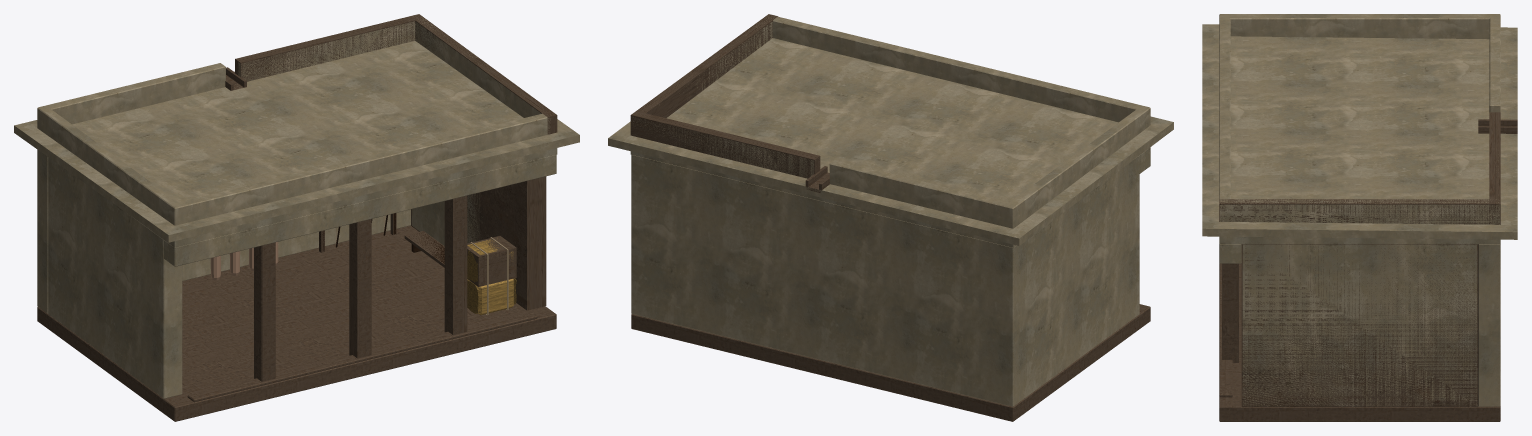
Rendered from d_archery_8x5.glb.
3 views of the same model, side by side, from view 1: azimuth 30°, elevation 25°; view 2: azimuth 150°, elevation 25°; view 3: azimuth 270°, elevation 25° (orthographic).
Parts seen in each view (by area): view 1: rear wall, foundation, side wall-colonly.001, rear parapet-colonly.001, side parapet-colonly.001, front pier-colonly.002, straw bale-colonly.001, front pier-colonly.001, straw bale, bow string, bench-colonly.001, straw bale end (+1 smaller); view 2: rear wall, foundation, rear parapet-colonly.001, side parapet-colonly.001; view 3: rear wall, side wall-colonly.001, foundation, side parapet-colonly.001, rear parapet-colonly.001, front pier-colonly.002.
Part boxes in pixels (left/top/right/bottom): rear wall: left=14, top=16, right=579, bottom=398; foundation: left=37, top=67, right=556, bottom=421; side wall-colonly.001: left=411, top=176, right=546, bottom=310; rear parapet-colonly.001: left=235, top=14, right=422, bottom=81; side parapet-colonly.001: left=410, top=14, right=557, bottom=134; front pier-colonly.002: left=444, top=195, right=467, bottom=334; straw bale-colonly.001: left=467, top=236, right=516, bottom=286; front pier-colonly.001: left=349, top=219, right=371, bottom=358; straw bale: left=467, top=238, right=514, bottom=315; bow string: left=210, top=216, right=384, bottom=280; bench-colonly.001: left=404, top=231, right=444, bottom=267; straw bale end: left=467, top=242, right=516, bottom=313; rear wall: left=608, top=16, right=1173, bottom=406; foundation: left=631, top=166, right=1150, bottom=421; rear parapet-colonly.001: left=630, top=111, right=820, bottom=178; side parapet-colonly.001: left=636, top=14, right=777, bottom=122; rear wall: left=1202, top=14, right=1517, bottom=406; side wall-colonly.001: left=1241, top=244, right=1478, bottom=406; foundation: left=1219, top=119, right=1517, bottom=421; side parapet-colonly.001: left=1219, top=199, right=1500, bottom=224; rear parapet-colonly.001: left=1489, top=112, right=1500, bottom=224; front pier-colonly.002: left=1222, top=263, right=1238, bottom=362.
Size of what is drawn, in the model's own units: 8.6 by 4.28 by 5.6.
8 materials, 5 textured.
